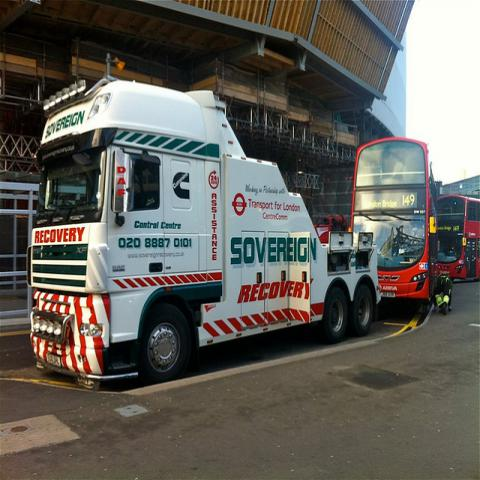bus: (350, 134, 438, 306), (438, 195, 480, 282)
truck: (30, 76, 384, 390)
